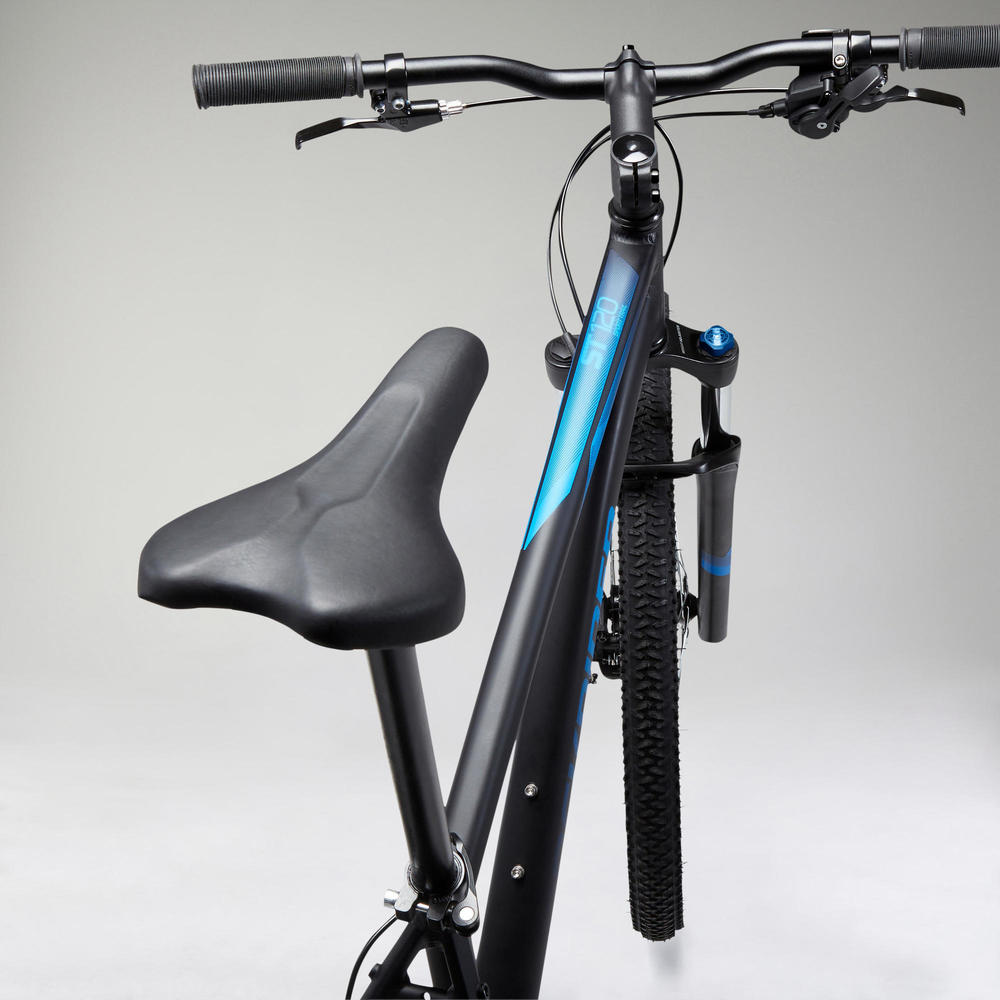MountainBike: (146, 29, 1000, 992)
